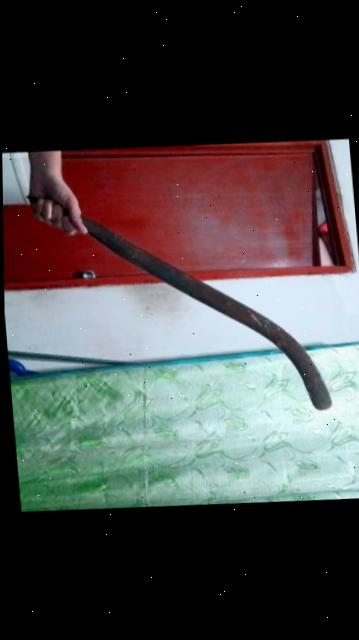long knife: (11, 158, 352, 442)
